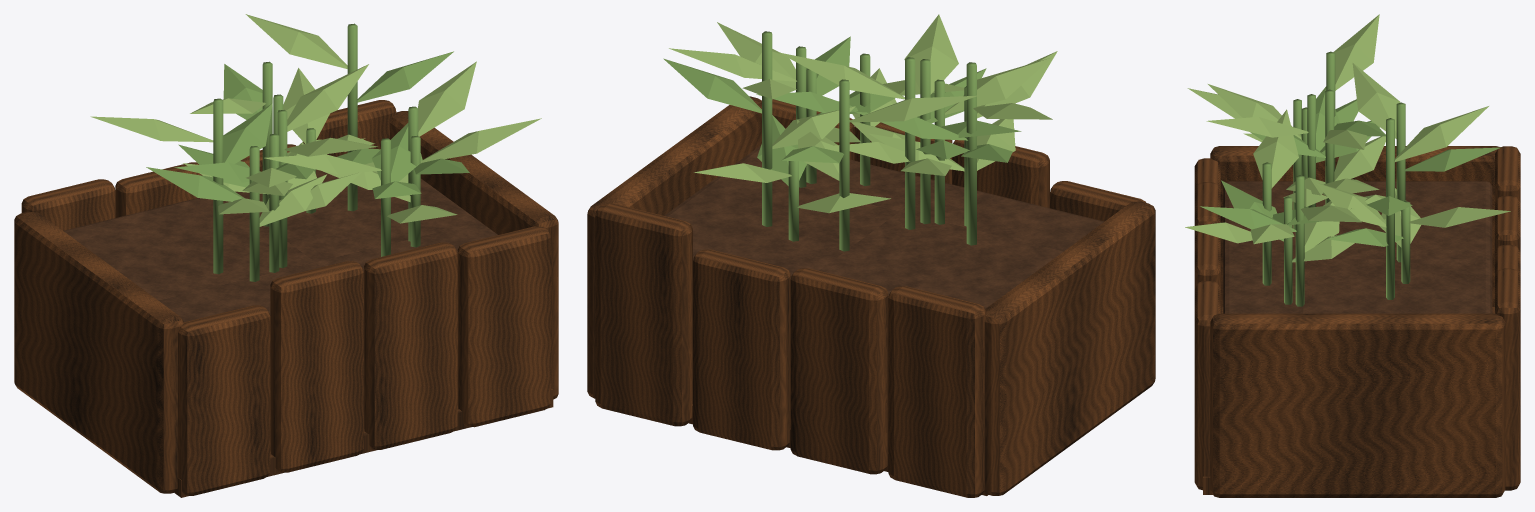
File: planter.glb
3 renders of one model, left to right at view 1: azimuth 30°, elevation 25°; view 2: azimuth 150°, elevation 25°; view 3: azimuth 270°, elevation 25°, orthographic. The views are drawn at different scales.
Parts seen in each view (by area): view 1: GEO-PlanterV2-Wood, GEO-PlanterV2-Soil, GEO-PlanterV2-PlantGreen, GEO-PlanterV2-PlantGreenLight; view 2: GEO-PlanterV2-Wood, GEO-PlanterV2-Soil, GEO-PlanterV2-PlantGreen, GEO-PlanterV2-PlantGreenLight; view 3: GEO-PlanterV2-Wood, GEO-PlanterV2-Soil, GEO-PlanterV2-PlantGreenLight, GEO-PlanterV2-PlantGreen.
Part boxes in pixels (x1=…): GEO-PlanterV2-Wood: x1=14, y1=100, x2=558, y2=497; GEO-PlanterV2-Soil: x1=63, y1=169, x2=497, y2=322; GEO-PlanterV2-PlantGreen: x1=146, y1=23, x2=469, y2=281; GEO-PlanterV2-PlantGreenLight: x1=90, y1=14, x2=541, y2=226; GEO-PlanterV2-Wood: x1=587, y1=96, x2=1155, y2=497; GEO-PlanterV2-Soil: x1=664, y1=145, x2=1103, y2=308; GEO-PlanterV2-PlantGreen: x1=663, y1=31, x2=1021, y2=251; GEO-PlanterV2-PlantGreenLight: x1=669, y1=14, x2=1057, y2=213; GEO-PlanterV2-Wood: x1=1194, y1=146, x2=1520, y2=497; GEO-PlanterV2-Soil: x1=1223, y1=181, x2=1492, y2=313; GEO-PlanterV2-PlantGreenLight: x1=1185, y1=14, x2=1510, y2=262; GEO-PlanterV2-PlantGreen: x1=1200, y1=51, x2=1500, y2=306.
Bounding box in the file's own units: 1.19 × 0.95 × 0.89.
6 materials, 4 textured.
